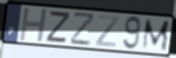9: (121, 15, 142, 52)
H: (18, 8, 49, 43)
M: (140, 19, 171, 52)
Z: (44, 10, 73, 45), (69, 12, 97, 47), (94, 14, 121, 49)
